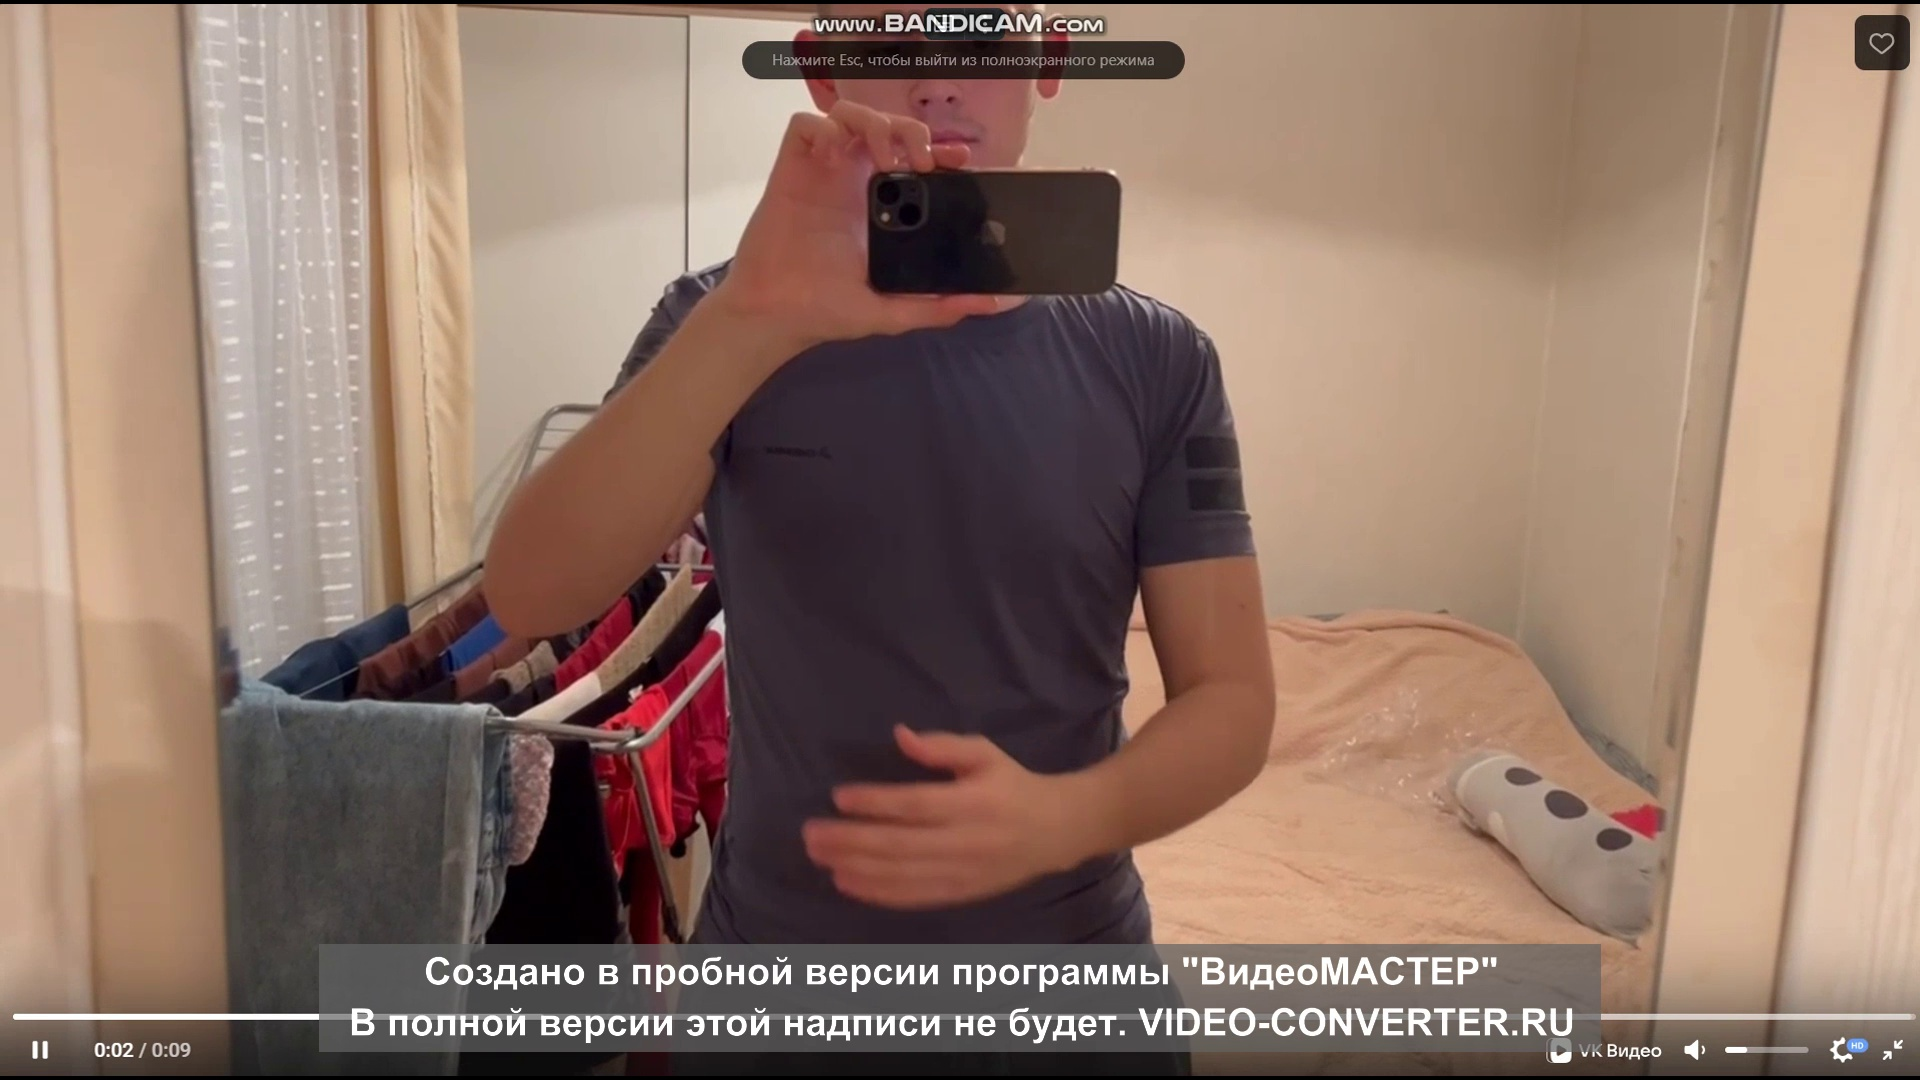Кисть: (795, 721, 1054, 910)
